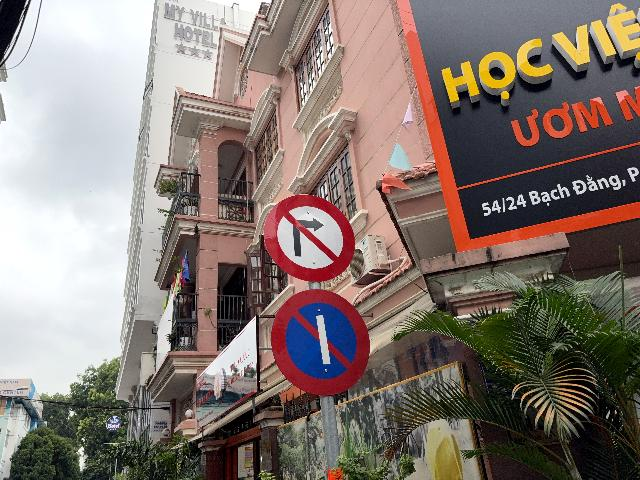cam-do-xe-ngay-le: (270, 289, 370, 396)
cam-re-phai: (264, 194, 356, 281)
